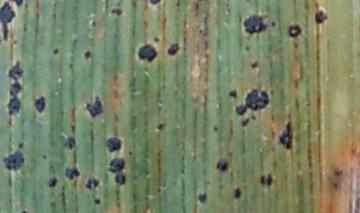tarspot: (6, 60, 26, 117), (235, 88, 268, 117), (107, 156, 128, 185), (241, 14, 269, 35), (83, 94, 106, 119), (1, 1, 15, 41), (2, 149, 25, 173), (277, 121, 294, 150), (137, 43, 157, 63), (105, 135, 123, 153), (32, 94, 46, 115), (62, 167, 82, 181), (61, 135, 77, 151), (81, 177, 100, 190), (314, 9, 327, 26), (165, 42, 180, 56), (286, 24, 302, 37), (214, 158, 228, 171), (109, 7, 123, 17), (257, 173, 266, 187), (266, 171, 273, 189), (47, 175, 57, 187), (197, 191, 207, 202), (8, 1, 25, 7), (82, 49, 92, 59), (240, 117, 250, 127), (333, 169, 344, 178), (233, 187, 241, 199), (228, 89, 237, 98), (16, 141, 26, 149), (156, 123, 165, 131), (51, 48, 60, 56), (92, 198, 101, 206), (270, 18, 277, 28), (250, 61, 258, 69), (332, 181, 339, 190), (148, 1, 160, 6), (212, 124, 218, 133), (244, 44, 250, 51), (20, 208, 28, 213)
